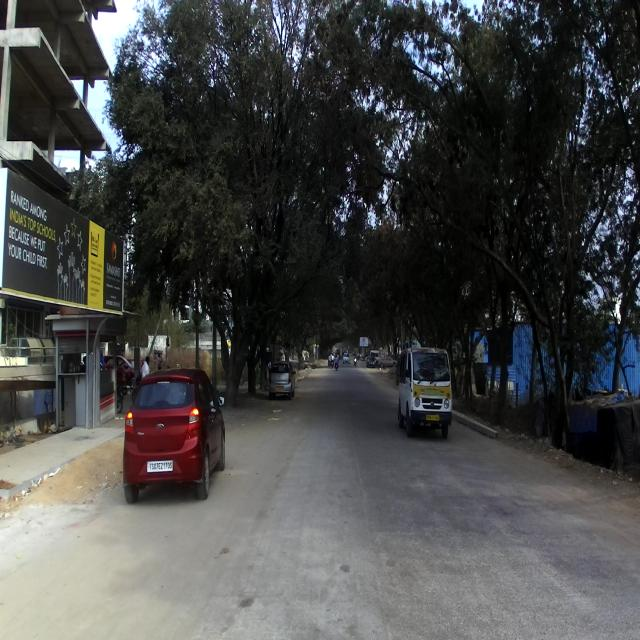car ahead at: (124, 366, 230, 495), (396, 342, 456, 440)
